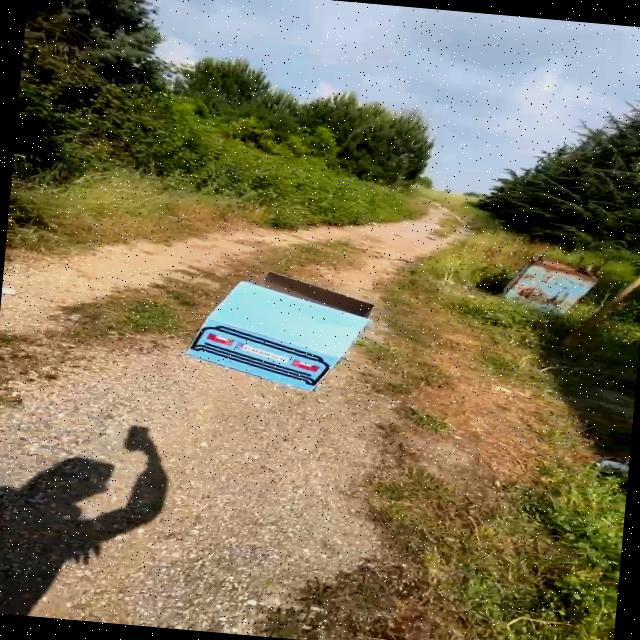blue_car: (163, 252, 396, 408)
